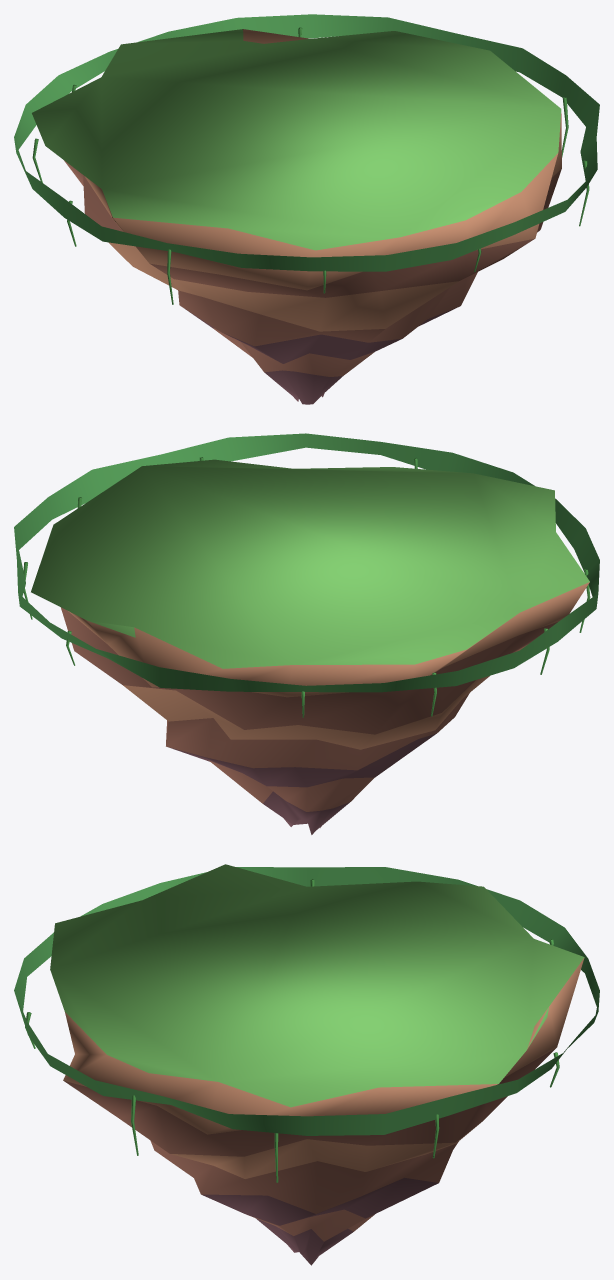
The model's file is sky_isle_rock.glb.
3 views of the same model, one above another, from view 1: azimuth 30°, elevation 25°; view 2: azimuth 150°, elevation 25°; view 3: azimuth 270°, elevation 25° (orthographic).
Parts seen in each view (by area): view 1: IsleRock; view 2: IsleRock; view 3: IsleRock.
Boxes of the visible parts, <box> form: IsleRock: <box>14,14,599,404</box>; IsleRock: <box>14,433,599,834</box>; IsleRock: <box>14,864,599,1265</box>.
Size of the model in its own units: 2.04 by 1.07 by 2.03.
